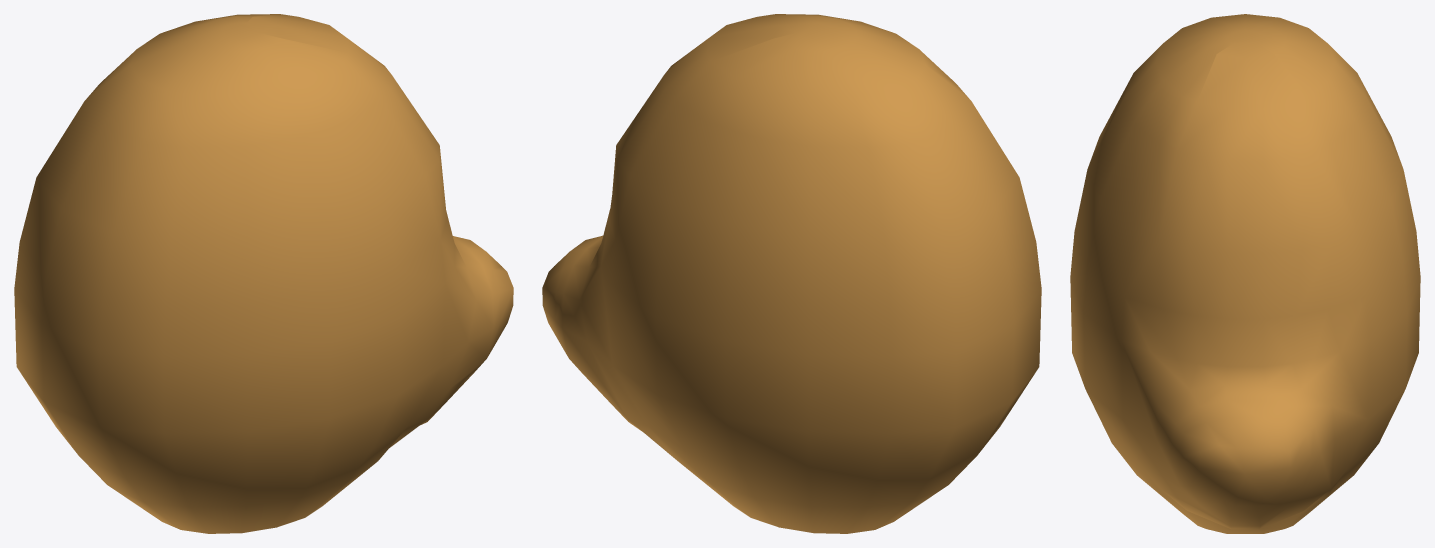
Rendered from cute_hand.FBX.
3 views of the same model, side by side, from view 1: azimuth 30°, elevation 25°; view 2: azimuth 150°, elevation 25°; view 3: azimuth 270°, elevation 25° (orthographic). The views are drawn at different scales.
Parts seen in each view (by area): view 1: Sphere001; view 2: Sphere001; view 3: Sphere001.
Part boxes in pixels (left/top/right/bottom): Sphere001: left=14, top=14, right=513, bottom=533; Sphere001: left=542, top=14, right=1041, bottom=533; Sphere001: left=1070, top=14, right=1420, bottom=533.
Bounding box in the file's own units: 28.33 × 28.63 × 19.07.
